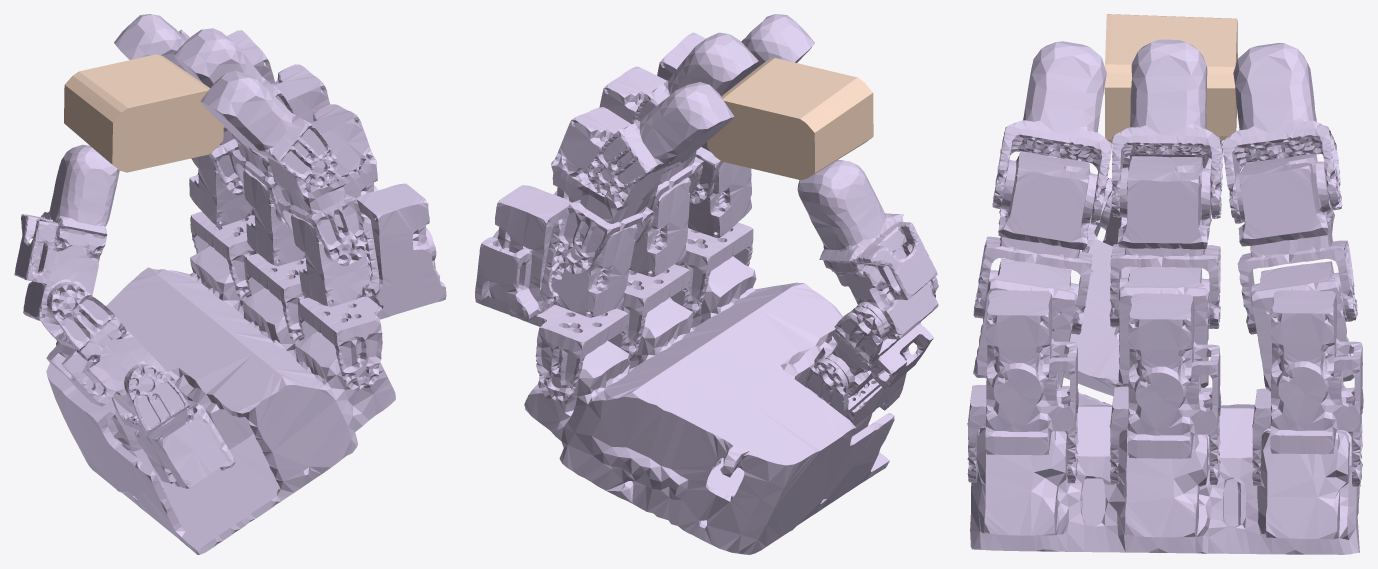
The model's file is d24c48c74f9956-closed.glb.
3 renders of one model, left to right at view 1: azimuth 30°, elevation 25°; view 2: azimuth 150°, elevation 25°; view 3: azimuth 270°, elevation 25°, orthographic. The views are drawn at different scales.
Visible parts, largest first — view 1: LEAP_hand, world; view 2: LEAP_hand, world; view 3: LEAP_hand, world.
Boxes of the visible parts, x1,y1,x2,y2 form: LEAP_hand: (14,14,446,554); world: (64,54,223,172); LEAP_hand: (475,14,938,554); world: (707,58,873,180); LEAP_hand: (967,39,1363,554); world: (1104,14,1237,143).
Bounding box in the file's own units: 0.1686 × 0.1957 × 0.1264.
